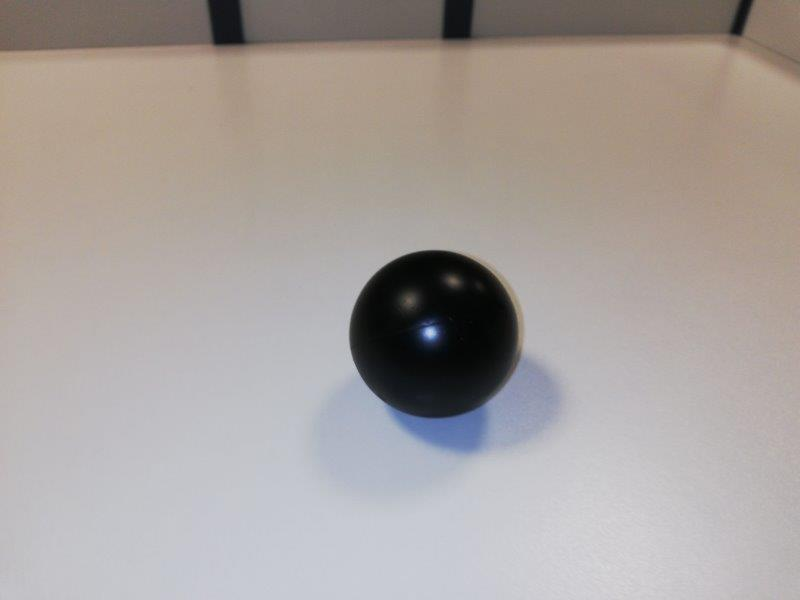nera: (348, 251, 518, 421)
